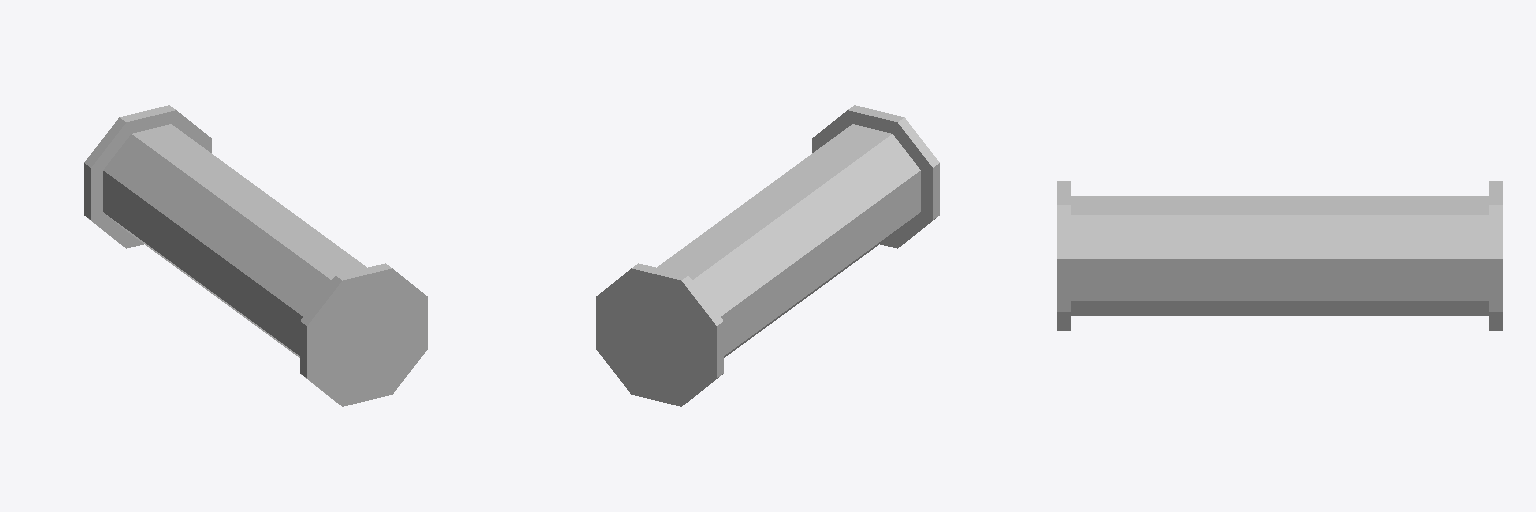
The model's file is pipeworks_straight_pipe_lowpoly.obj.
3 views of the same model, side by side, from view 1: azimuth 30°, elevation 25°; view 2: azimuth 150°, elevation 25°; view 3: azimuth 270°, elevation 25° (orthographic).
Visible parts, largest first — view 1: Cylinder.000_Cylinder.000_None; view 2: Cylinder.000_Cylinder.000_None; view 3: Cylinder.000_Cylinder.000_None.
Boxes of the visible parts, <box> form: Cylinder.000_Cylinder.000_None: <box>84,105,427,406</box>; Cylinder.000_Cylinder.000_None: <box>596,105,939,406</box>; Cylinder.000_Cylinder.000_None: <box>1057,181,1502,330</box>.
Size of the model in its own units: 0.3125 by 0.3125 by 1.